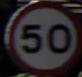Speed limit: (3, 4, 78, 65)
